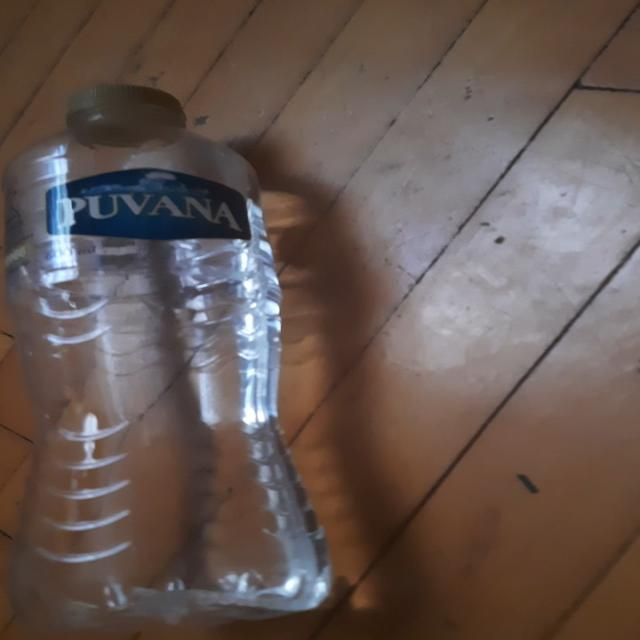Plastic: (0, 84, 340, 640)
